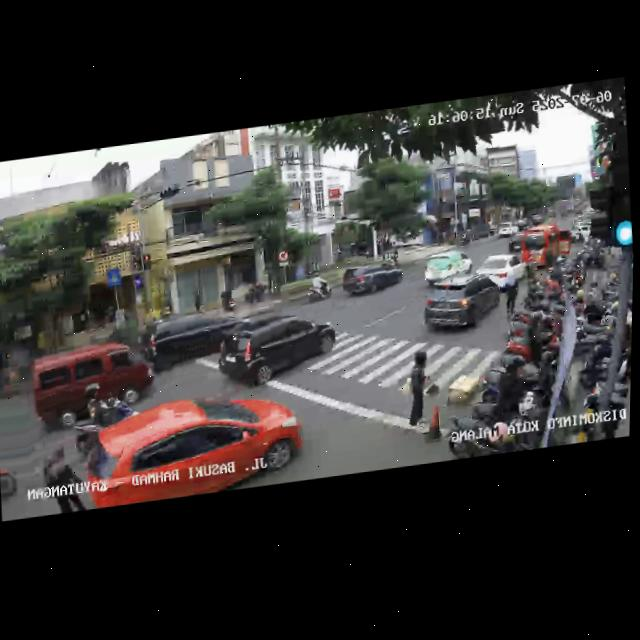car: (78, 382, 307, 510), (211, 299, 339, 394), (28, 335, 154, 431), (138, 307, 254, 376), (419, 271, 505, 339), (339, 259, 402, 301), (520, 220, 573, 269), (474, 250, 527, 292), (423, 248, 473, 287), (495, 221, 518, 238), (508, 233, 525, 252)
motorcycle: (64, 381, 136, 451), (0, 445, 27, 520), (307, 270, 332, 305)
person: (401, 348, 434, 435), (503, 270, 521, 322)
